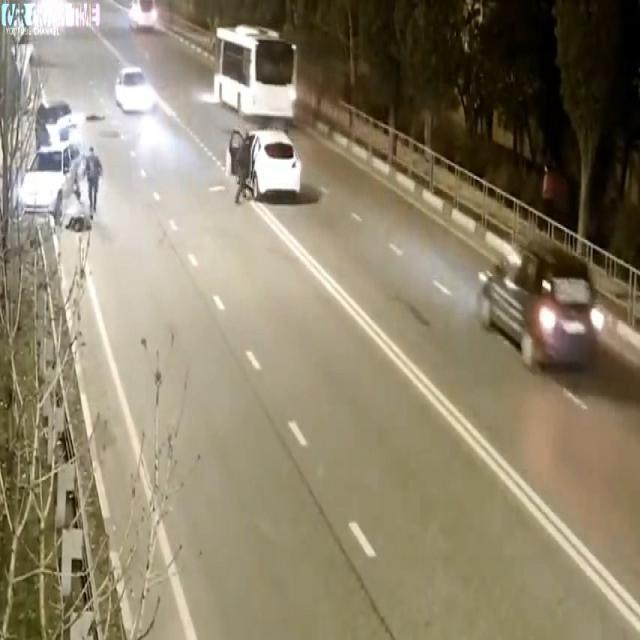Accident: (14, 83, 100, 272)
